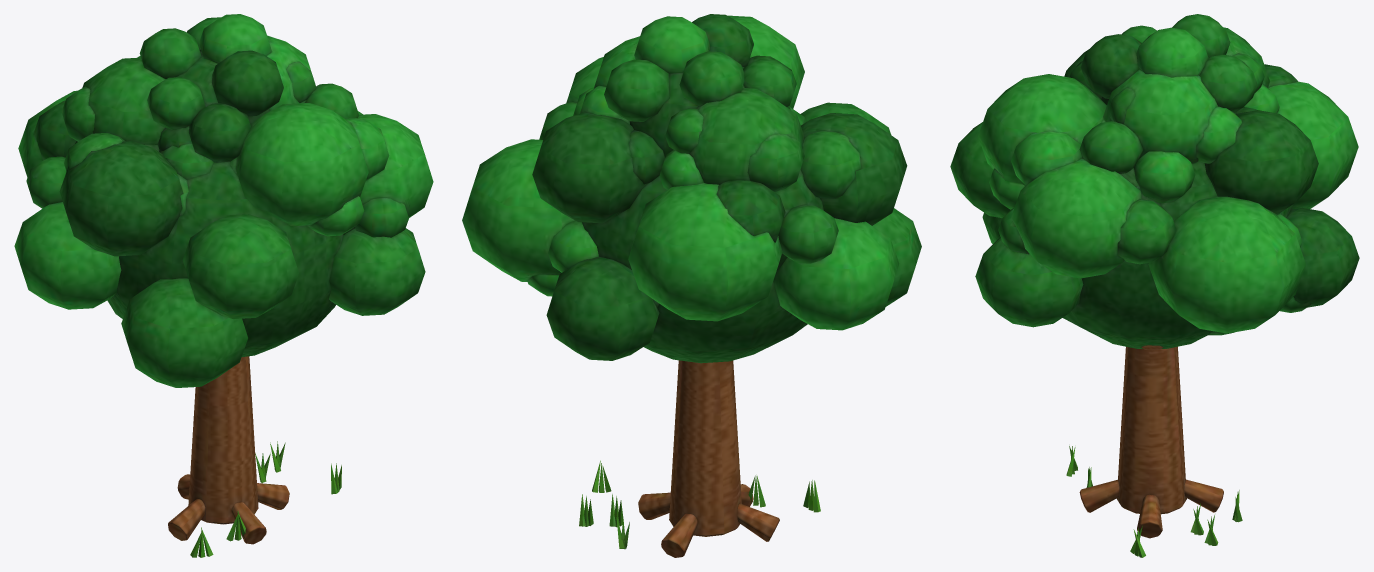
File: pomelo_tree.glb
3 views of the same model, side by side, from view 1: azimuth 30°, elevation 25°; view 2: azimuth 150°, elevation 25°; view 3: azimuth 270°, elevation 25° (orthographic). The views are drawn at different scales.
Parts seen in each view (by area): view 1: crown, pomelo_tree; view 2: crown, pomelo_tree; view 3: crown, pomelo_tree.
Part boxes in pixels (x1,y1,x2,y2): crown: [14, 14, 433, 387]; pomelo_tree: [168, 356, 341, 557]; crown: [462, 14, 921, 363]; pomelo_tree: [579, 360, 820, 557]; crown: [950, 14, 1359, 348]; pomelo_tree: [1066, 345, 1242, 557].
Size of the model in its own units: 1.22 by 1.52 by 1.15.
1 material, 1 textured.
